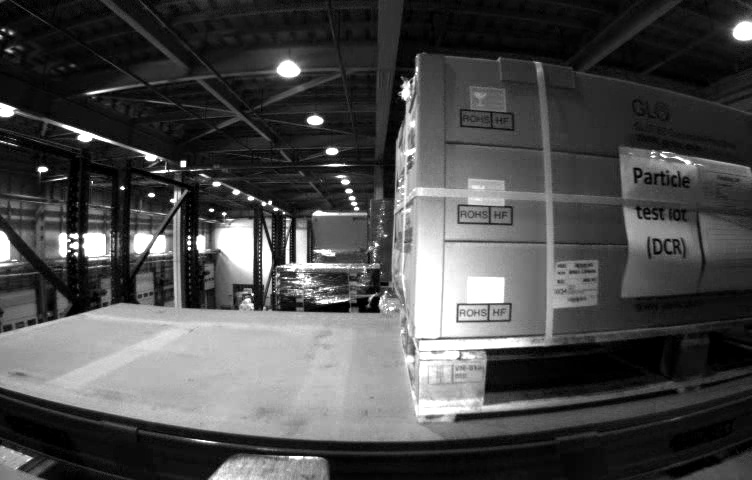True Barcode: (551, 260, 596, 304)
